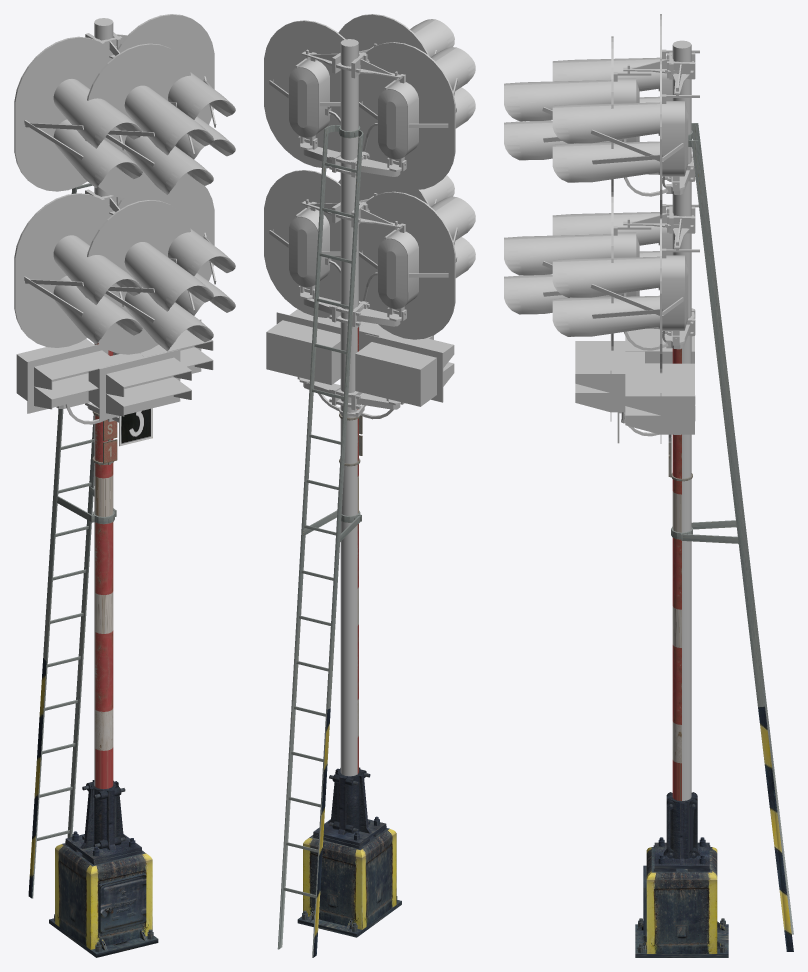
Rendered from sssr_4svet_nove.obj.
3 renders of one model, left to right at view 1: azimuth 30°, elevation 25°; view 2: azimuth 150°, elevation 25°; view 3: azimuth 270°, elevation 25°, orthographic. The views are drawn at different scales.
Visible parts, largest first — view 1: stit_4l, stit_4, stoz_4_zaklad, stit_4r, stoz_4odj_nater, stit_4_pruhy, stit_4l_pruhy, stit_4r_pruhy, stoz_4_stozar, stoz_4_30, stoz_4odj_cisla; view 2: stit_4l, stoz_4_zaklad, stit_4r, stoz_4_stozar, stit_4l_pruhy, stit_4r_pruhy, stit_4, stoz_4odj_nater; view 3: stit_4r, stoz_4_zaklad, stit_4, stoz_4_stozar, stit_4l, stit_4r_pruhy, stit_4_pruhy, stoz_4odj_nater, stit_4l_pruhy.
Boxes of the visible parts, bbox=[...] form: stit_4l: bbox=[14, 33, 142, 347]; stit_4: bbox=[85, 36, 213, 354]; stoz_4_zaklad: bbox=[28, 183, 158, 957]; stit_4r: bbox=[113, 14, 235, 315]; stoz_4odj_nater: bbox=[95, 343, 113, 789]; stit_4_pruhy: bbox=[88, 349, 191, 422]; stit_4l_pruhy: bbox=[16, 339, 119, 424]; stit_4r_pruhy: bbox=[108, 319, 213, 420]; stoz_4_stozar: bbox=[94, 18, 113, 786]; stoz_4_30: bbox=[119, 408, 152, 445]; stoz_4odj_cisla: bbox=[92, 411, 117, 464]; stit_4l: bbox=[338, 42, 475, 339]; stoz_4_zaklad: bbox=[277, 125, 401, 957]; stit_4r: bbox=[264, 20, 365, 322]; stoz_4_stozar: bbox=[340, 39, 358, 776]; stit_4l_pruhy: bbox=[338, 331, 454, 419]; stit_4r_pruhy: bbox=[266, 309, 364, 410]; stit_4: bbox=[338, 14, 454, 331]; stoz_4odj_nater: bbox=[357, 327, 358, 773]; stit_4r: bbox=[552, 58, 699, 373]; stoz_4_zaklad: bbox=[635, 123, 793, 957]; stit_4: bbox=[504, 36, 694, 350]; stoz_4_stozar: bbox=[672, 40, 691, 800]; stit_4l: bbox=[552, 14, 699, 348]; stit_4r_pruhy: bbox=[625, 363, 695, 443]; stit_4_pruhy: bbox=[575, 334, 659, 436]; stoz_4odj_nater: bbox=[672, 348, 681, 800]; stit_4l_pruhy: bbox=[625, 328, 695, 404].
Bounding box in the file's own units: 0.9717 × 4.26 × 1.24.
